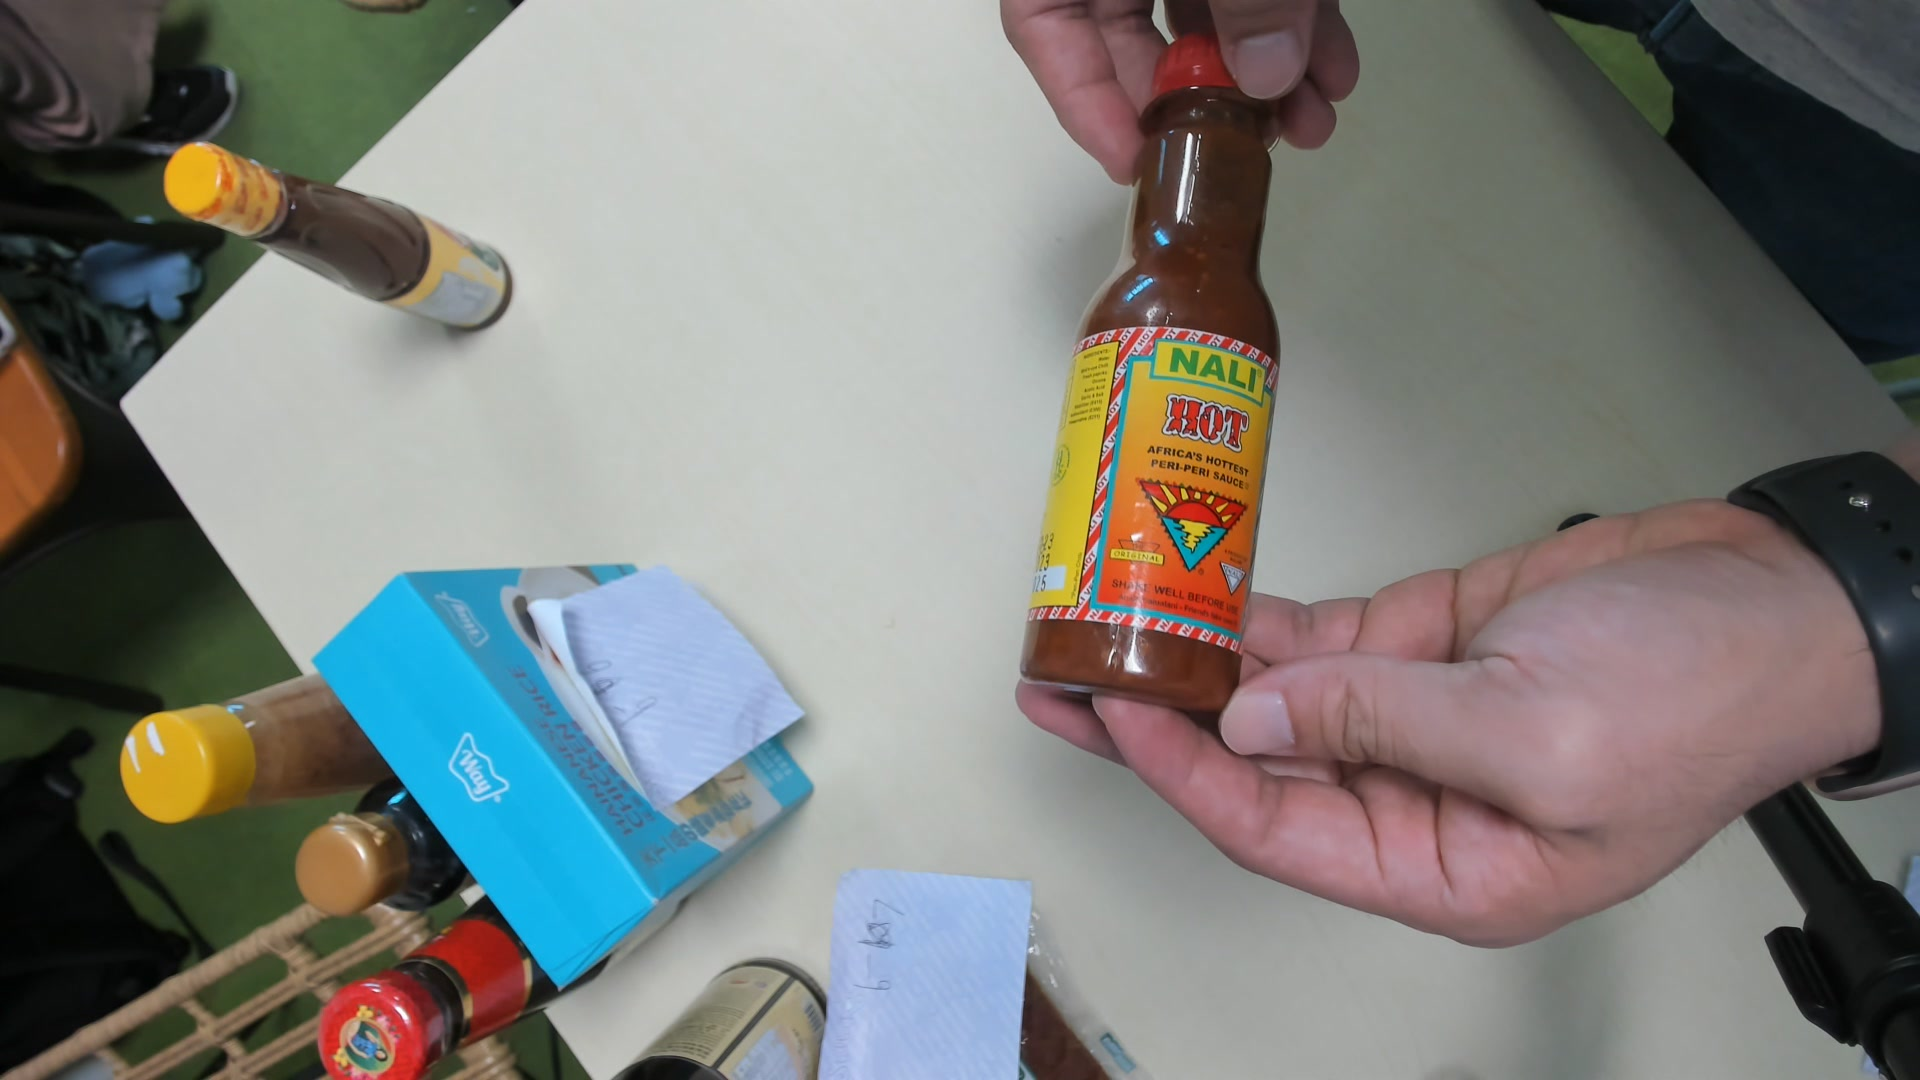KetchupChillSauce_100-199g_Halal_NonHealthy: (1017, 34, 1280, 733)
